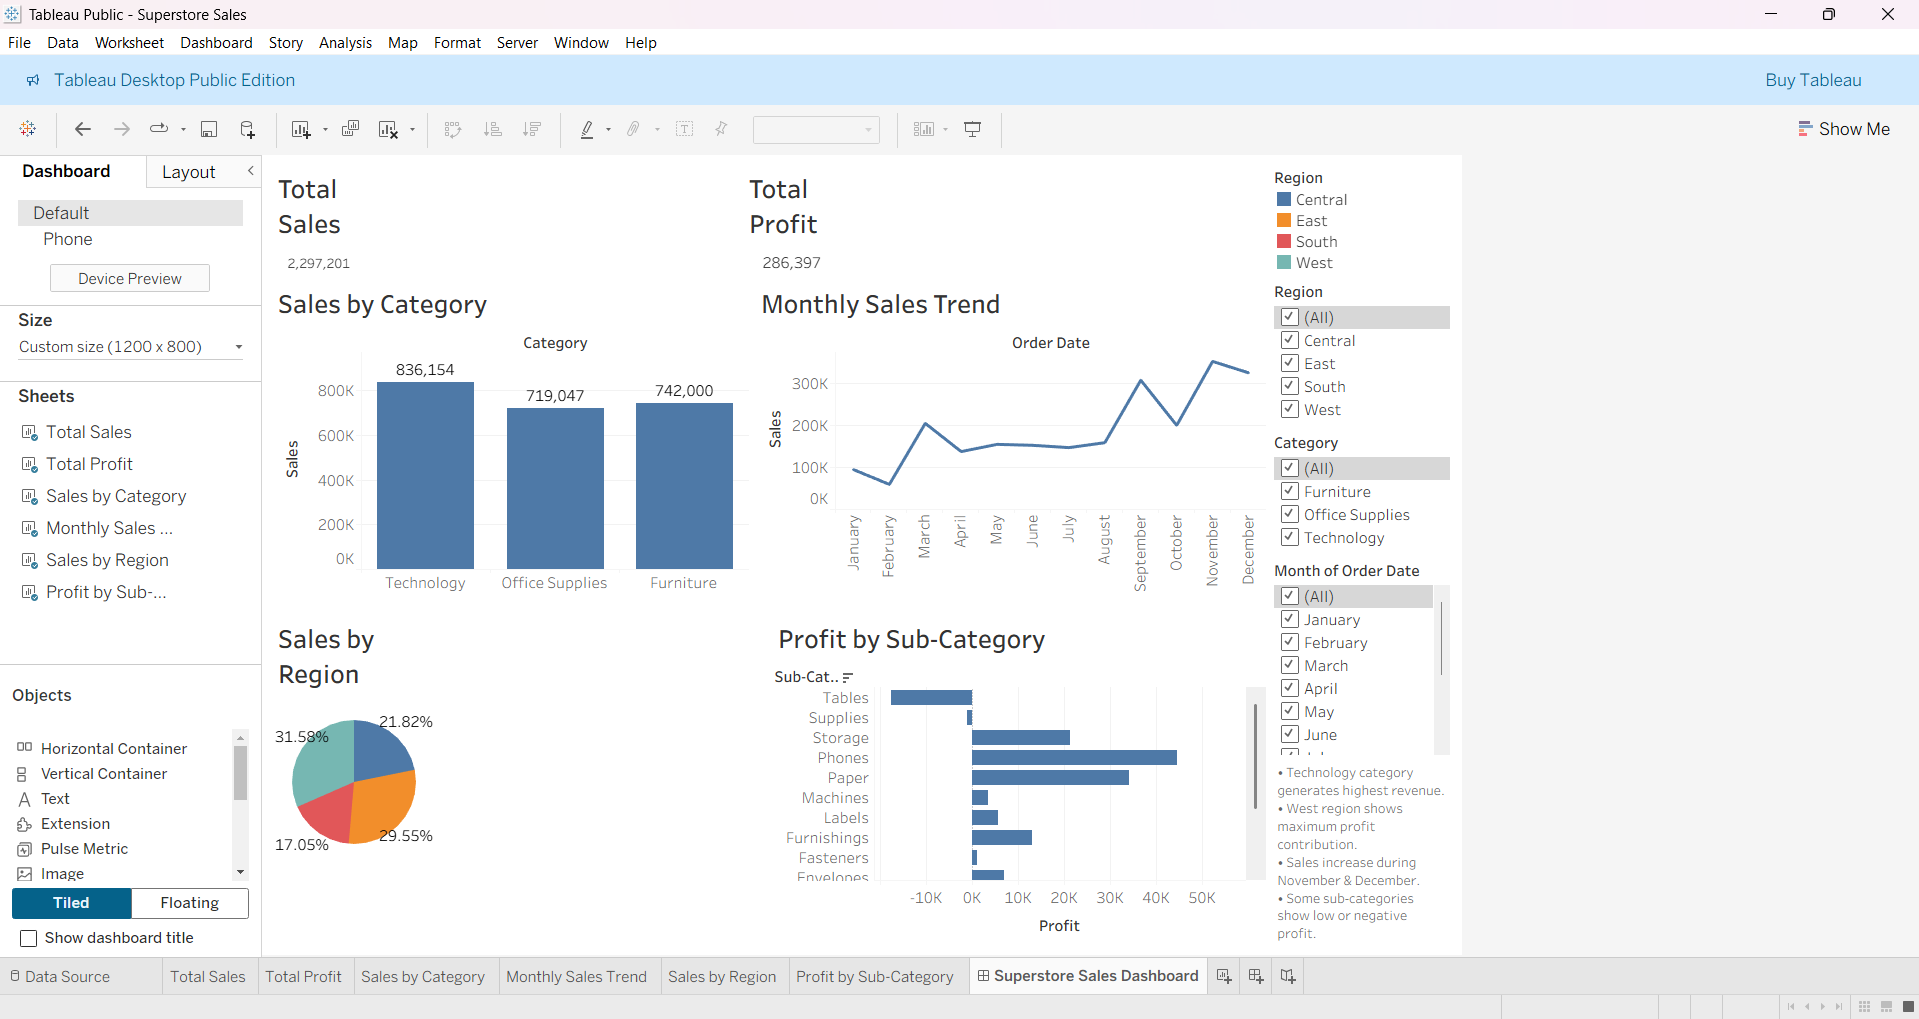

This screenshot's page, from the dashboard's own definition file:
{"tool":"tableau","page":{"name":"Superstore Sales Dashboard","canvas":[1200,800],"ordinal":0},"visuals":[{"type":"worksheet","title":"Total Sales","mark":"Automatic","box":[8,8,471.2,115]},{"type":"worksheet","title":"Total Profit","mark":"Automatic","box":[479.2,8,528.8,115]},{"type":"legend","title":"Sales by Region","param":"[federated.1sfj9990mzxyrh1ep405p0b3ma28].[none:Region:nk]","box":[1008,8,184,114]},{"type":"filter","title":"Sales by Region","param":"[federated.1sfj9990mzxyrh1ep405p0b3ma28].[none:Region:nk]","box":[1008,122,184,151]},{"type":"worksheet","title":"Sales by Category","mark":"Automatic","rows":["Sales"],"cols":["Category"],"box":[8,123,483.4,334.5]},{"type":"worksheet","title":"Monthly Sales Trend","mark":"Automatic","rows":["Sales"],"cols":["Order Date"],"box":[491.4,123,516.6,334.5]},{"type":"filter","title":"Sales by Category","param":"[federated.1sfj9990mzxyrh1ep405p0b3ma28].[none:Category:nk]","box":[1008,273,184,128]},{"type":"filter","title":"Monthly Sales Trend","param":"[federated.1sfj9990mzxyrh1ep405p0b3ma28].[mn:Order Date:ok]","box":[1008,401,184,203]},{"type":"worksheet","title":"Sales by Region","mark":"Pie","box":[8,457.5,500,334.5]},{"type":"worksheet","title":"Profit by Sub-Category","mark":"Automatic","rows":["Sub-Category"],"cols":["Profit"],"box":[508,457.5,500,334.5]},{"type":"text","box":[1008,604,184,188]}]}

Visuals, with their boxes on the page's 1200x800 design canvas (x1, y1, x2, y2). These are canvas units, not pixel positions in the 1919x1019 screenshot, which may show the page scaled, cropped or inside an application window:
"Total Sales" worksheet: <region>8, 8, 479, 123</region>
"Total Profit" worksheet: <region>479, 8, 1008, 123</region>
"Sales by Region" legend: <region>1008, 8, 1192, 122</region>
"Sales by Region" filter: <region>1008, 122, 1192, 273</region>
"Sales by Category" worksheet: <region>8, 123, 491, 458</region>
"Monthly Sales Trend" worksheet: <region>491, 123, 1008, 458</region>
"Sales by Category" filter: <region>1008, 273, 1192, 401</region>
"Monthly Sales Trend" filter: <region>1008, 401, 1192, 604</region>
"Sales by Region" worksheet (Pie marks): <region>8, 458, 508, 792</region>
"Profit by Sub-Category" worksheet: <region>508, 458, 1008, 792</region>
text: <region>1008, 604, 1192, 792</region>
